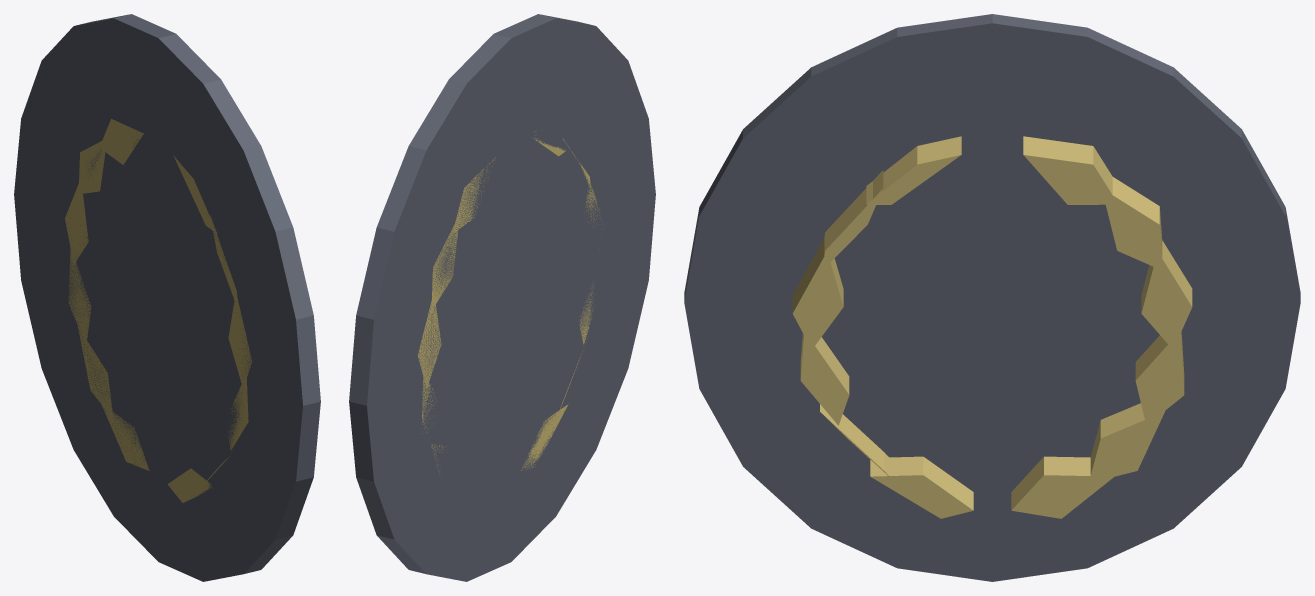
Rendered from SM_BM_HV_Emblem_Laurel.glb.
The picture shows the model from 3 angles, left to right: view 1: azimuth 30°, elevation 25°; view 2: azimuth 150°, elevation 25°; view 3: azimuth 270°, elevation 25°; orthographic projection. The views are drawn at different scales.
Parts seen in each view (by area): view 1: SM_BM_HV_Emblem_Laurel; view 2: SM_BM_HV_Emblem_Laurel; view 3: SM_BM_HV_Emblem_Laurel.
Part boxes in pixels (bbox=[...]): SM_BM_HV_Emblem_Laurel: bbox=[14, 14, 320, 581]; SM_BM_HV_Emblem_Laurel: bbox=[349, 14, 655, 581]; SM_BM_HV_Emblem_Laurel: bbox=[684, 14, 1300, 581].
Size of the model in its own units: 0.09 by 0.84 by 0.84.
